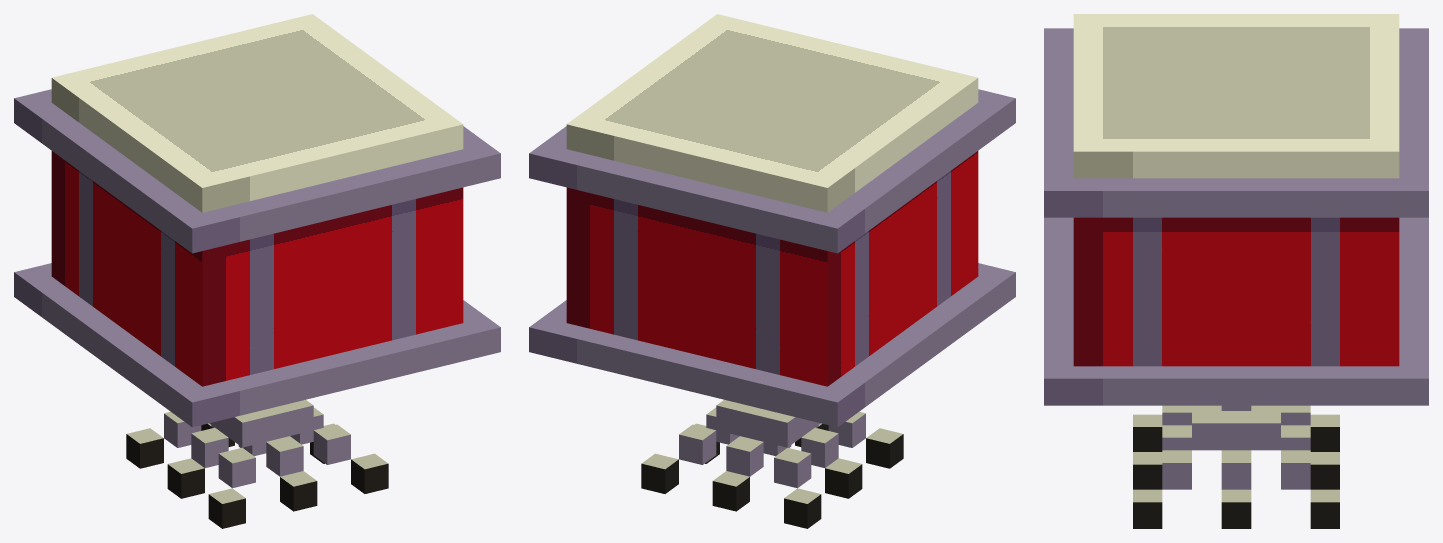
File: int_floor_tomao.fezao.glb
3 views of the same model, side by side, from view 1: azimuth 30°, elevation 25°; view 2: azimuth 150°, elevation 25°; view 3: azimuth 270°, elevation 25° (orthographic). The views are drawn at different scales.
Visible parts, largest first — view 1: INT_FLOOR_TOMAO; view 2: INT_FLOOR_TOMAO; view 3: INT_FLOOR_TOMAO.
Boxes of the visible parts, <box> form: INT_FLOOR_TOMAO: <box>14,14,500,528</box>; INT_FLOOR_TOMAO: <box>529,14,1015,528</box>; INT_FLOOR_TOMAO: <box>1044,14,1428,528</box>.
Bounding box in the file's own units: 0.8125 × 0.9375 × 0.8125.
1 material, 1 textured.
